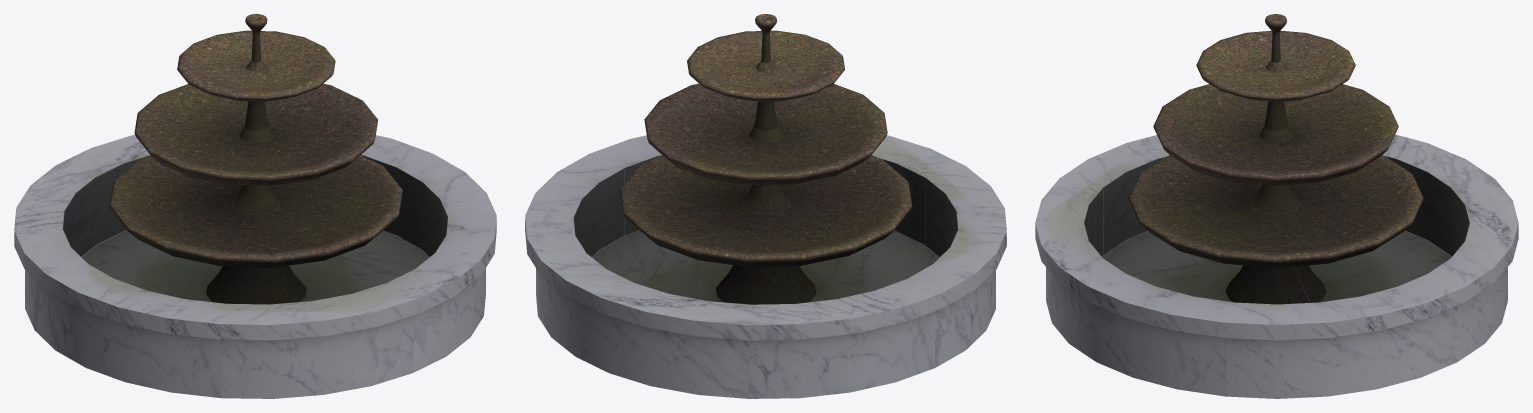
File: Fountain SketchFab Test.fbx
The picture shows the model from 3 angles, left to right: view 1: azimuth 30°, elevation 25°; view 2: azimuth 150°, elevation 25°; view 3: azimuth 270°, elevation 25°; orthographic projection.
Visible parts, largest first — view 1: Cylinder001; view 2: Cylinder001; view 3: Cylinder001.
Boxes of the visible parts, x1,y1,x2,y2 form: Cylinder001: [14, 14, 496, 398]; Cylinder001: [525, 14, 1006, 398]; Cylinder001: [1035, 14, 1518, 398].
Size of the model in its own units: 419 by 271 by 419.
Materials: 2 (2 with a texture image).
